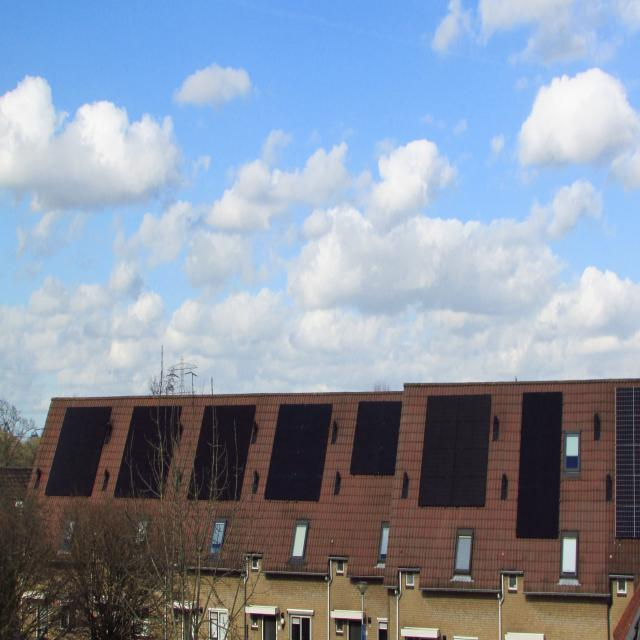clean-solar-panel: (419, 396, 491, 507), (516, 391, 562, 538), (265, 404, 332, 502), (350, 402, 401, 476)
